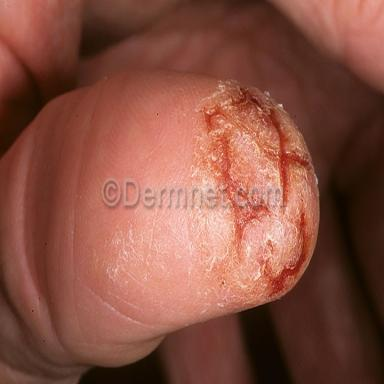eczema: (184, 79, 321, 306)
